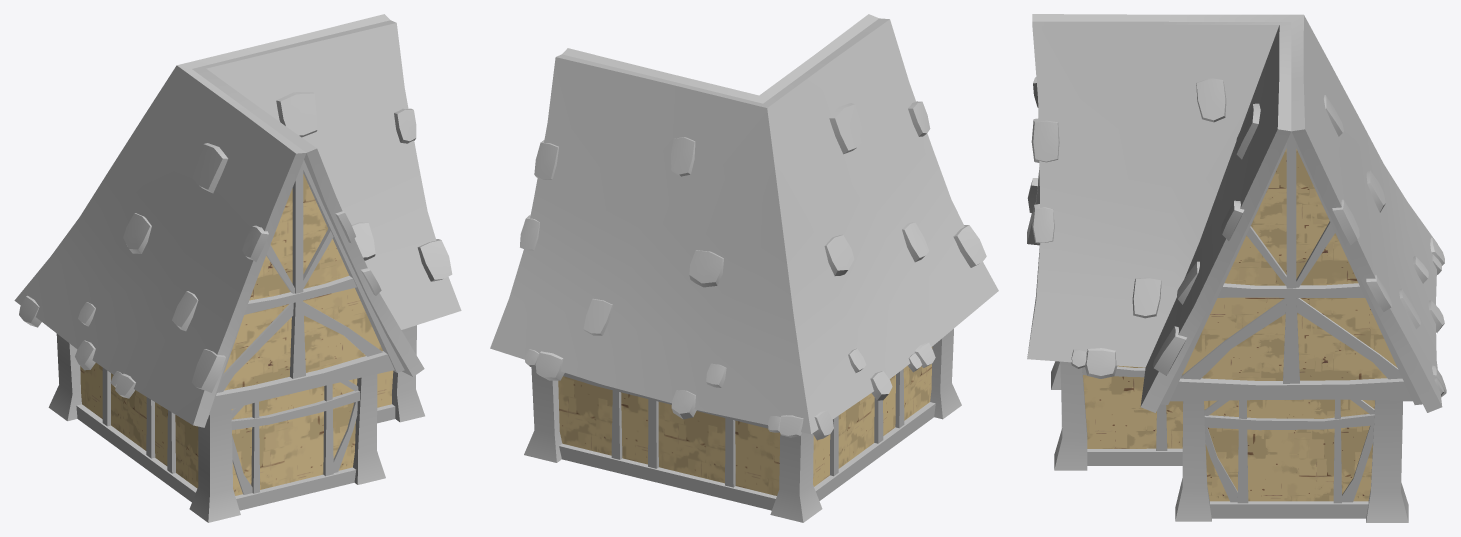
Rendered from SM_BLD_body_v06_02.fbx.
3 views of the same model, side by side, from view 1: azimuth 30°, elevation 25°; view 2: azimuth 150°, elevation 25°; view 3: azimuth 270°, elevation 25° (orthographic). The views are drawn at different scales.
Parts seen in each view (by area): view 1: SM_BLD_body_v06_02; view 2: SM_BLD_body_v06_02; view 3: SM_BLD_body_v06_02.
Part boxes in pixels (<box>): SM_BLD_body_v06_02: <box>14,14,461,522</box>; SM_BLD_body_v06_02: <box>490,14,998,522</box>; SM_BLD_body_v06_02: <box>1027,14,1446,522</box>.
Size of the model in its own units: 1024 by 1078 by 1021.
